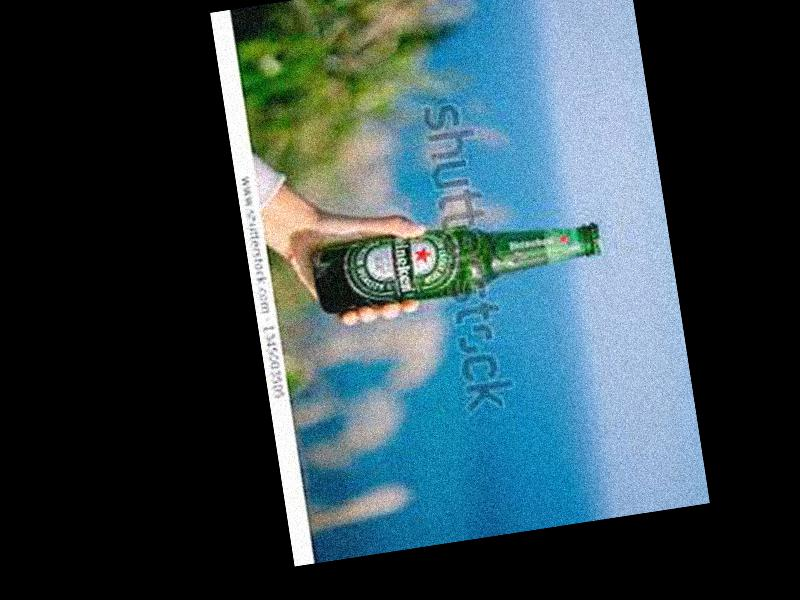Beer: (313, 201, 606, 315)
